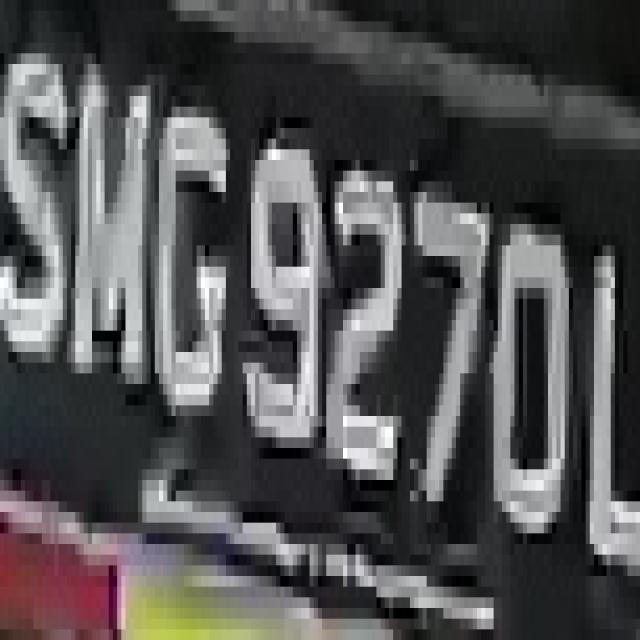0: (485, 192, 573, 576)
2: (326, 138, 406, 490)
7: (406, 181, 494, 544)
9: (234, 117, 330, 491)
G: (151, 54, 230, 438)
L: (573, 224, 636, 576)
M: (75, 64, 151, 437)
S: (8, 21, 76, 384)
